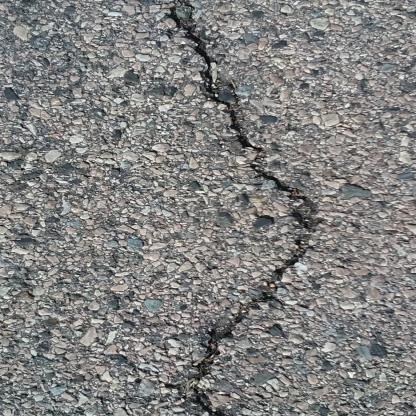Cracks: (147, 0, 318, 416)
